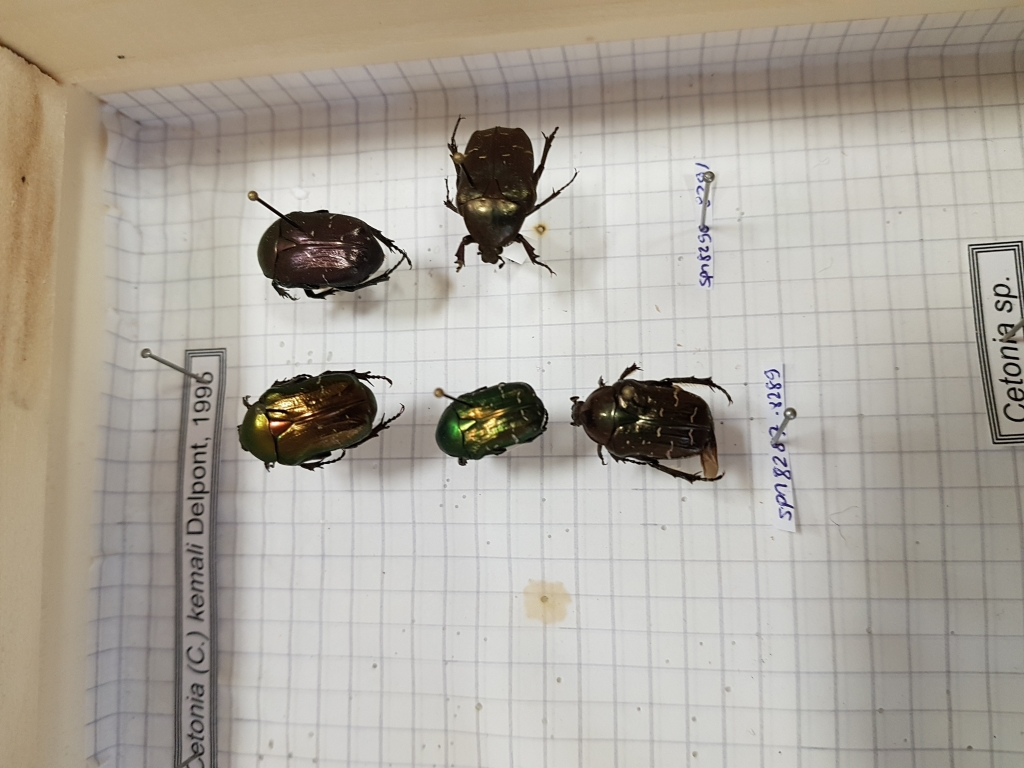Cetonia_kemali: (439, 107, 585, 280), (568, 364, 743, 497), (223, 361, 412, 483), (254, 200, 418, 299), (433, 373, 555, 461)
